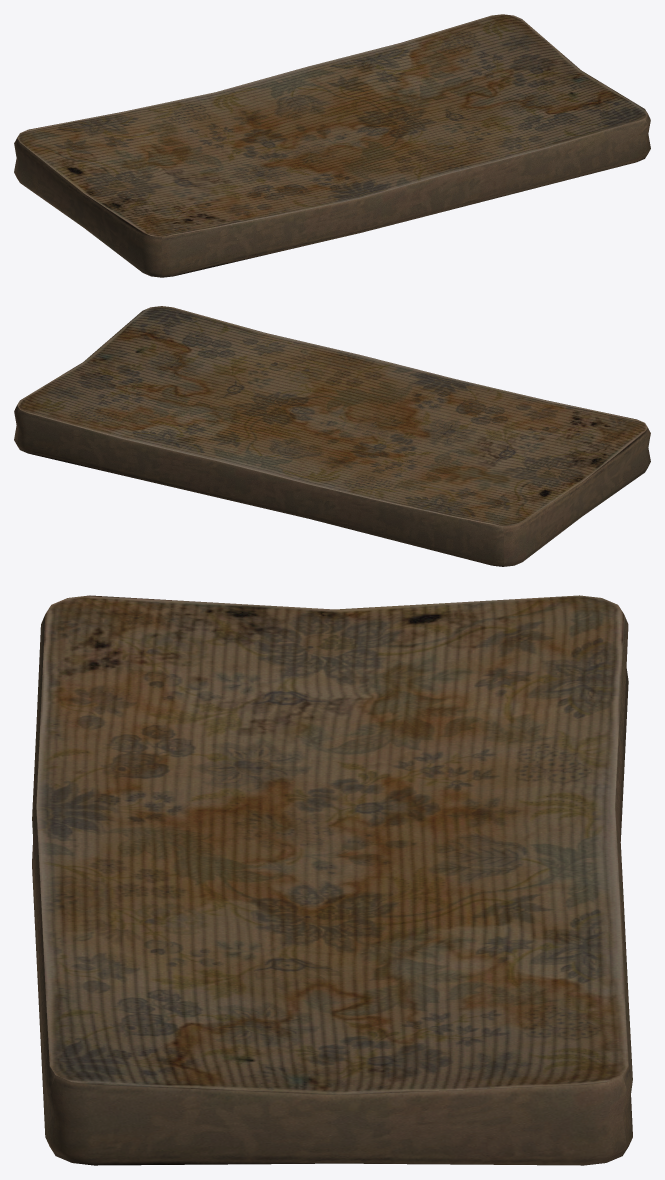
Rendered from old_mattress_mx_1.obj.
The picture shows the model from 3 angles, top to bottom: view 1: azimuth 30°, elevation 25°; view 2: azimuth 150°, elevation 25°; view 3: azimuth 270°, elevation 25°; orthographic projection. The views are drawn at different scales.
Parts seen in each view (by area): view 1: old_mattress_mx_1; view 2: old_mattress_mx_1; view 3: old_mattress_mx_1.
Boxes of the visible parts, x1,y1,x2,y2 form: old_mattress_mx_1: [14, 14, 650, 277]; old_mattress_mx_1: [14, 306, 650, 566]; old_mattress_mx_1: [32, 595, 632, 1165].
Size of the model in its own units: 2.62 by 0.2 by 1.35.
